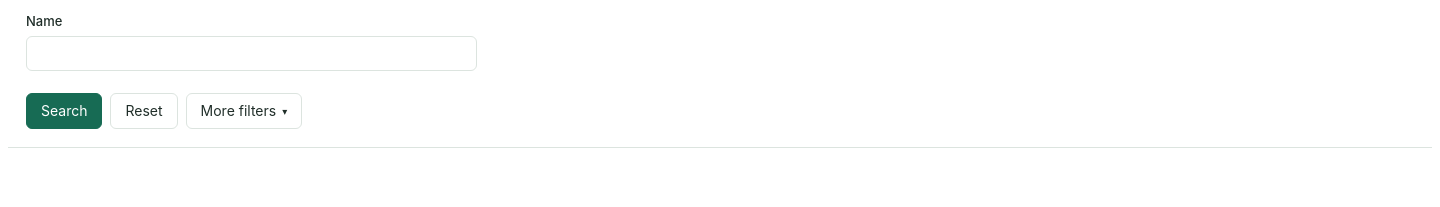
Test: main Search also validates closed-popover required more-fields
The image size is (1440, 207).
Click the button with test id "rac-search".
click(64, 111)  # box [26,93,102,129]
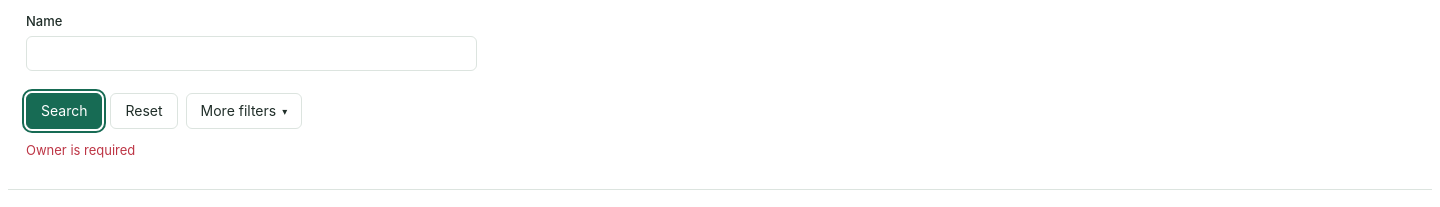
Check: the message reads "Owner is required", box [26,142,135,158]
